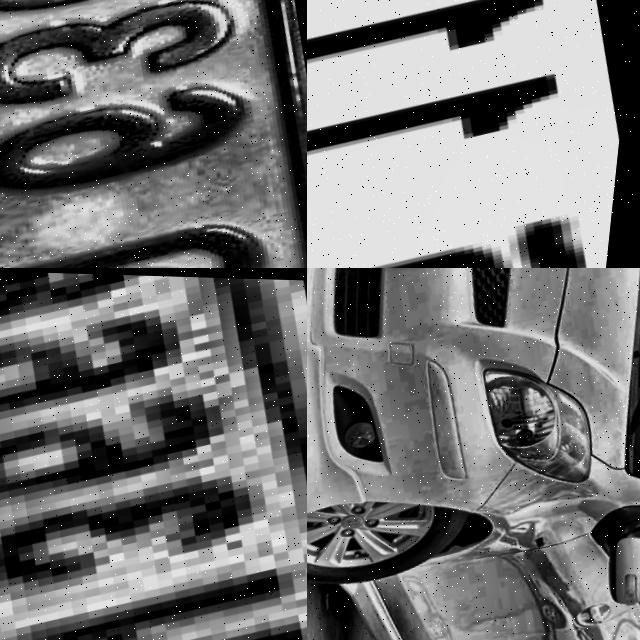license-plate: (0, 268, 307, 640), (307, 0, 640, 268), (0, 0, 307, 268)
